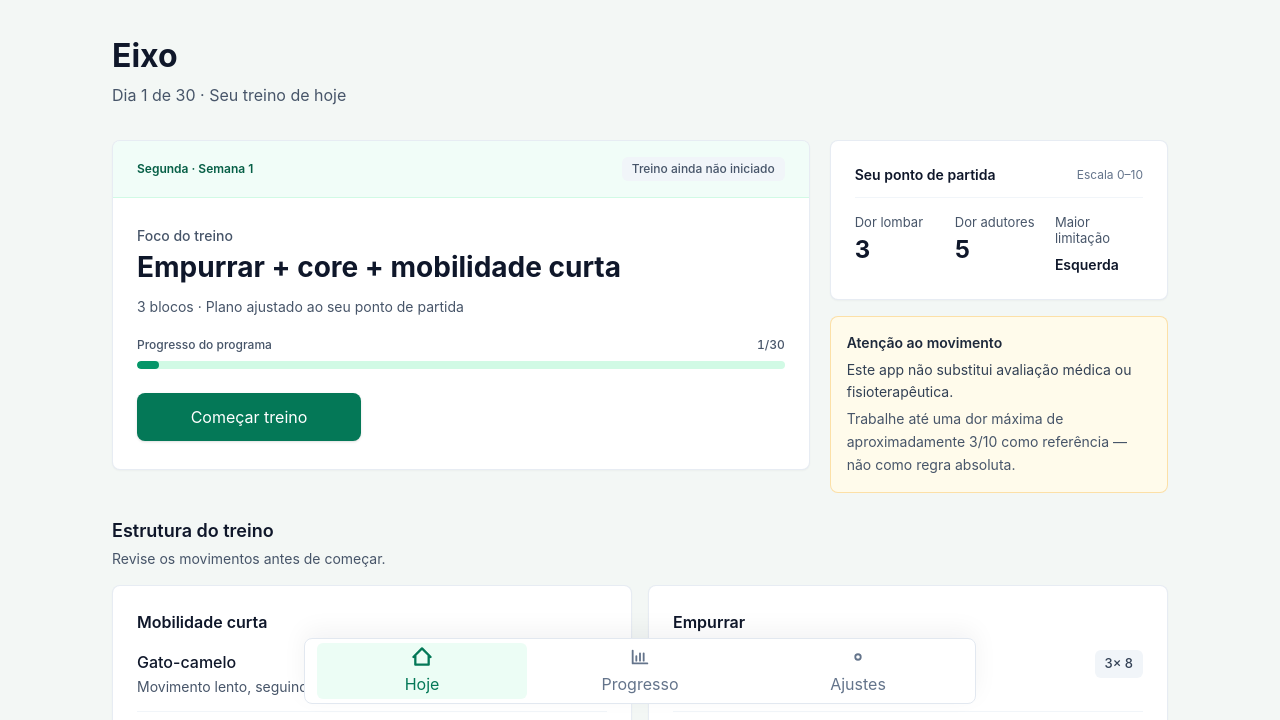
it: App — gate por estado › carrega a tela de Progresso sob demanda pela navegação
Click the button "Progresso" at (640, 671), box [531,639,749,703]
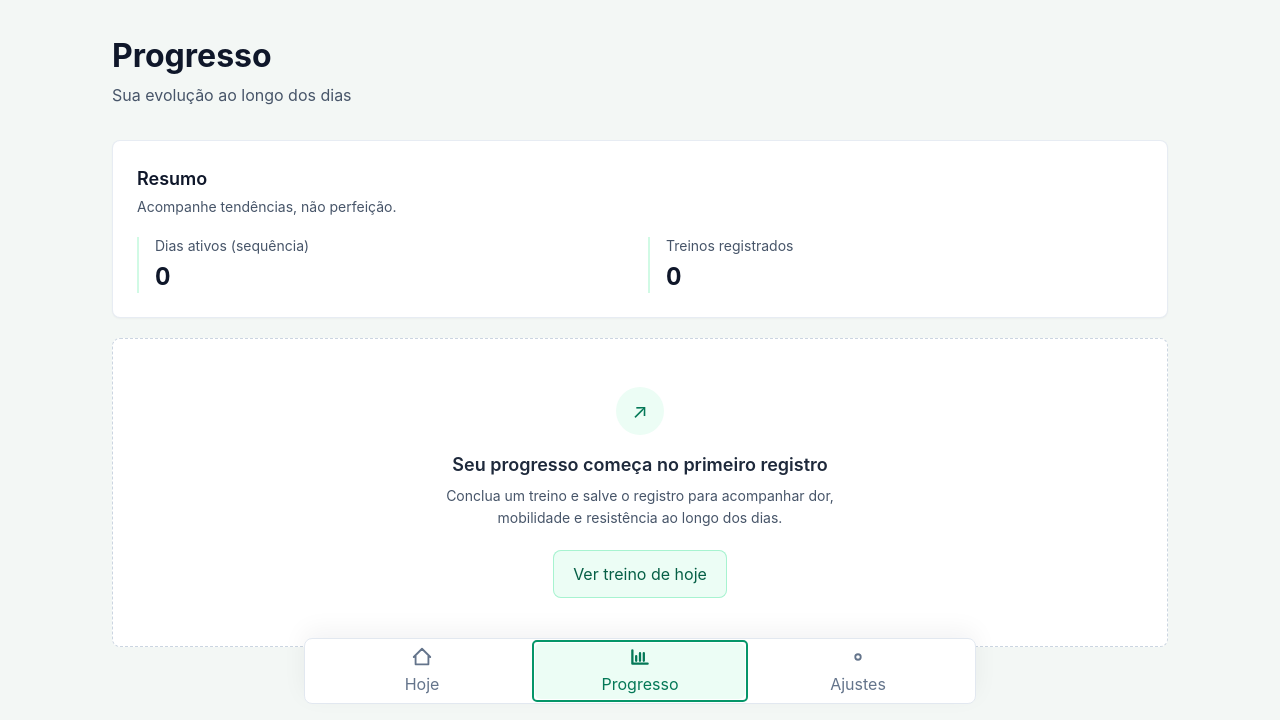
expect the heading "Progresso" is shown: met, box [112,36,272,75]
